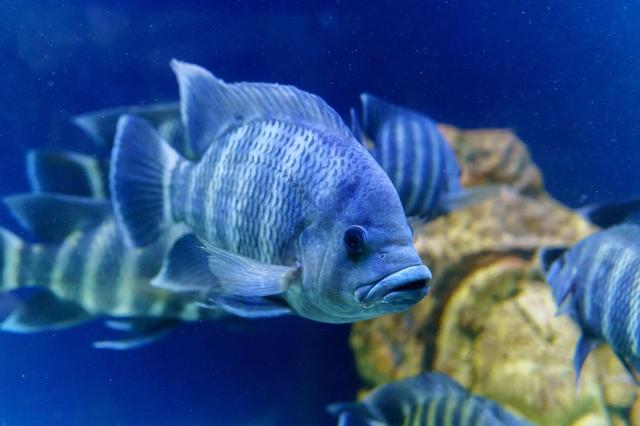Mulut: (376, 254, 448, 320)
Sirip Anal: (151, 221, 227, 295)
Sirip Dada: (196, 230, 302, 300)
Sirip Ekor: (94, 94, 182, 256)
Sirip Perut: (222, 292, 296, 328)
Sirip Punggung: (168, 39, 364, 173)
